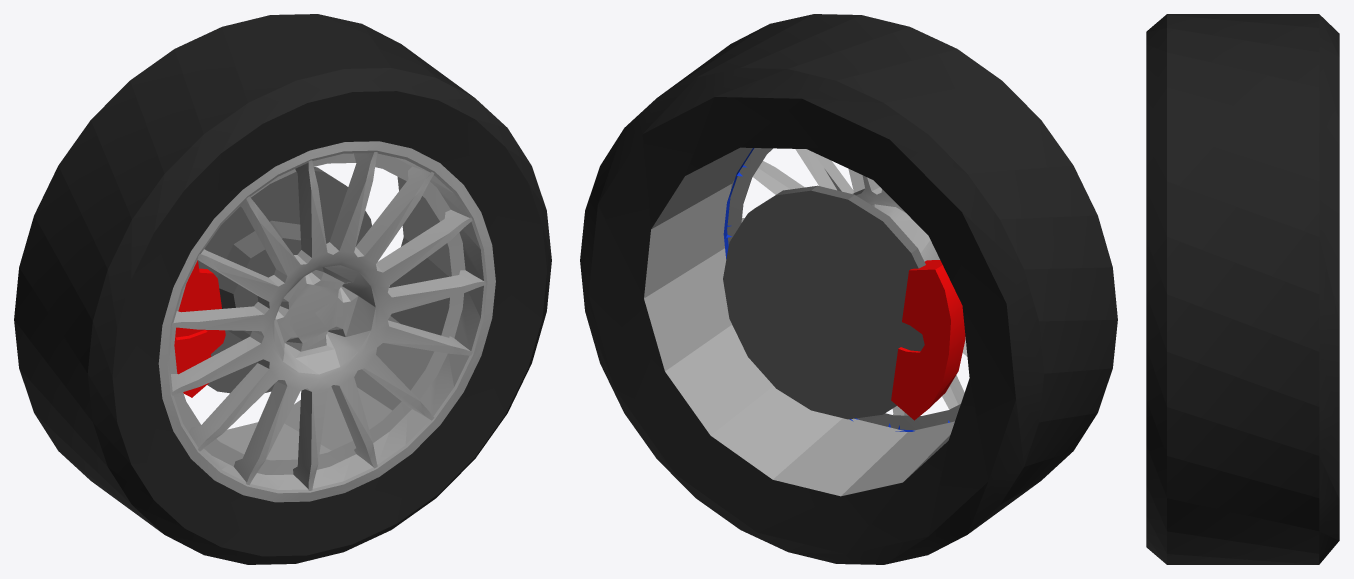
Rendered from rueda2.dae.
3 renders of one model, left to right at view 1: azimuth 30°, elevation 25°; view 2: azimuth 150°, elevation 25°; view 3: azimuth 270°, elevation 25°, orthographic. The views are drawn at different scales.
Visible parts, largest first — view 1: group_0 (×6); view 2: group_0 (×5); view 3: group_0.
Boxes of the visible parts, <box> form: group_0 (×6): <box>14,14,551,564</box>; group_0 (×5): <box>580,14,1117,564</box>; group_0: <box>1146,14,1339,564</box>.
Size of the model in its own units: 66.21 by 23.11 by 65.85.
